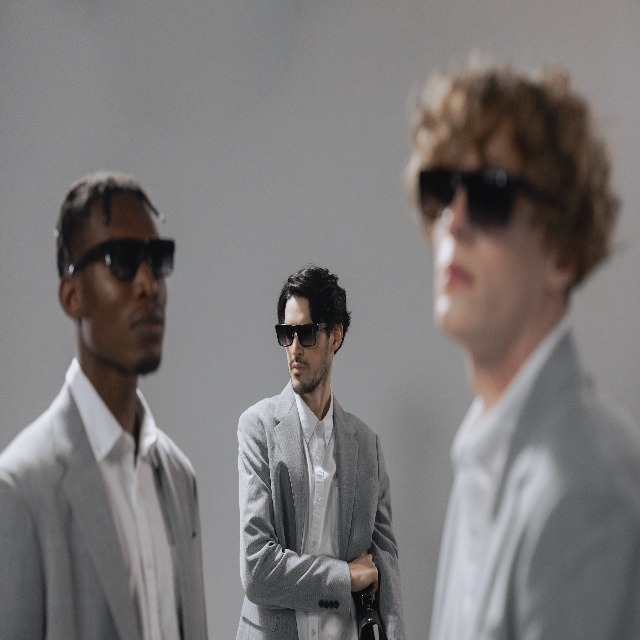Gafas: (417, 162, 549, 230), (68, 233, 176, 283), (275, 321, 328, 350)
Sin_guantes: (349, 549, 380, 594)
